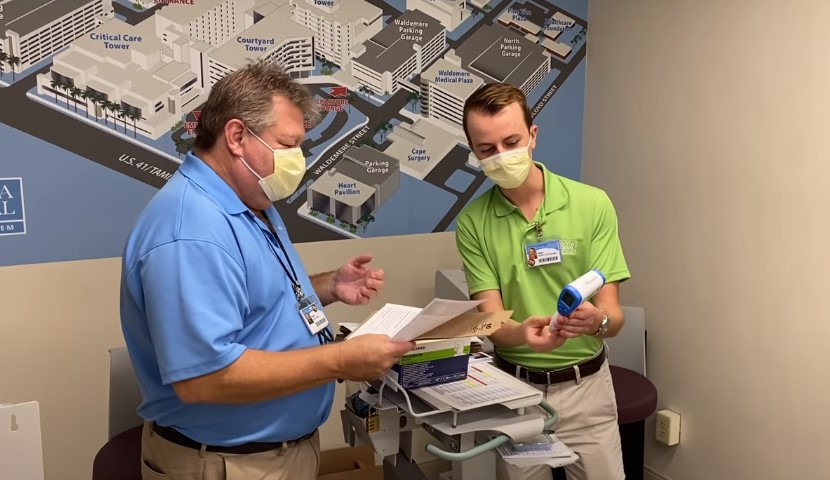face_with_mask: (210, 69, 318, 212), (456, 87, 539, 192)
